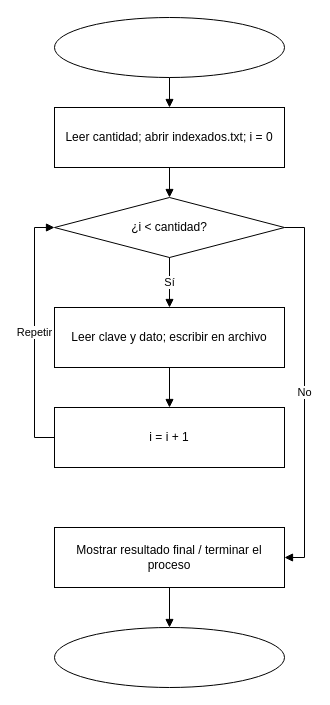
The diagram is 330 pixels wide and 705 high, and some of its shapes have lost their labels. The centre of each missing label's shape, as x and y in pixels:
"FIN" goes at [169,657].
"INICIO · Ejercicio 67" goes at [169,47].
